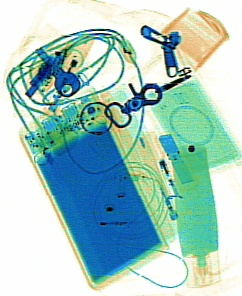lighter: (132, 128, 180, 220), (41, 32, 94, 112)
